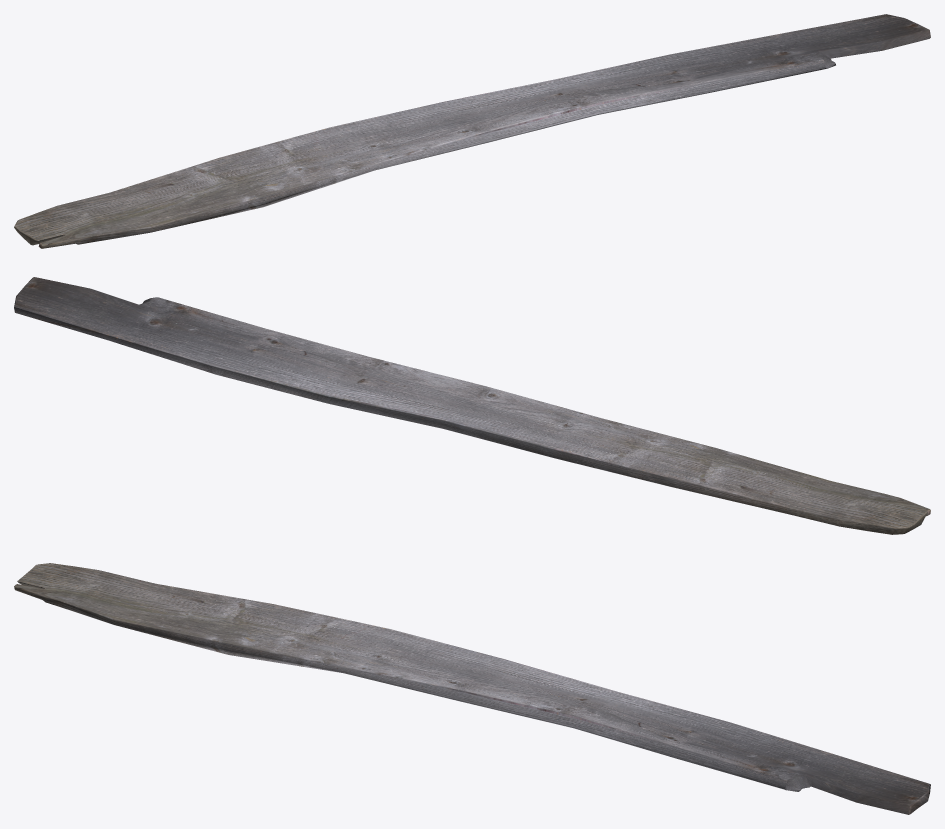
The model's file is SM_WoodPlank_02_04.fbx.
The picture shows the model from 3 angles, top to bottom: view 1: azimuth 30°, elevation 25°; view 2: azimuth 150°, elevation 25°; view 3: azimuth 330°, elevation 25°; orthographic projection. The views are drawn at different scales.
Visible parts, largest first — view 1: sm_WoodPlank_02_04_LOD0; view 2: sm_WoodPlank_02_04_LOD0; view 3: sm_WoodPlank_02_04_LOD0.
Boxes of the visible parts, x1,y1,x2,y2 form: sm_WoodPlank_02_04_LOD0: (14,14,930,248); sm_WoodPlank_02_04_LOD0: (14,277,930,534); sm_WoodPlank_02_04_LOD0: (14,563,930,814).
Bounding box in the file's own units: 33.23 × 296 × 6.95.
